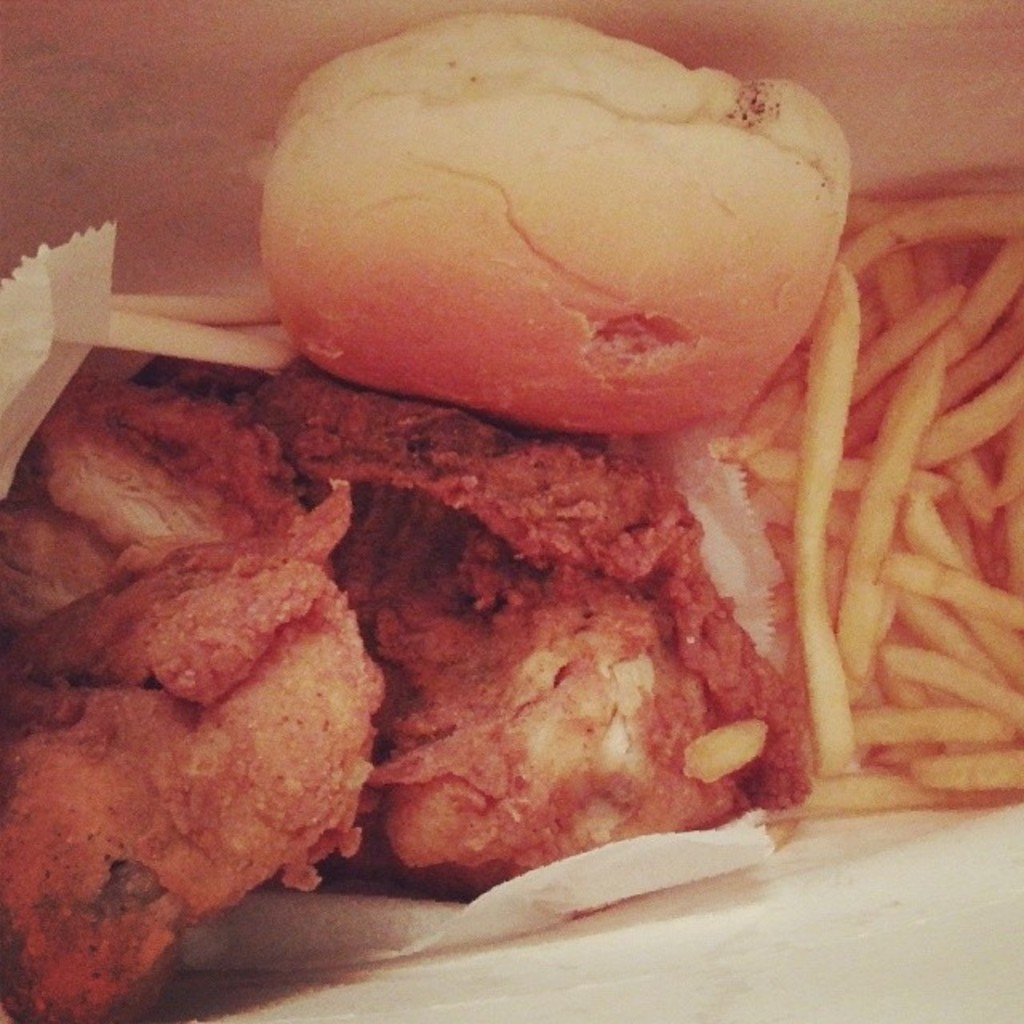French fries: (713, 153, 1014, 828)
